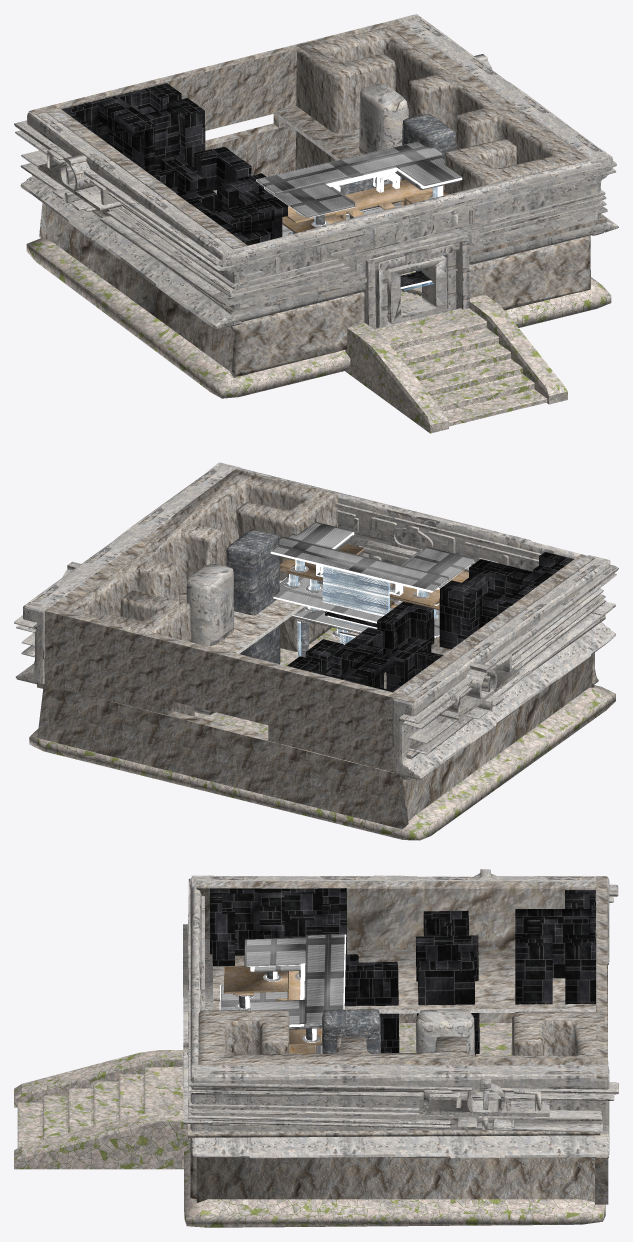
Rendered from templedm.glb.
3 views of the same model, one above another, from view 1: azimuth 30°, elevation 25°; view 2: azimuth 150°, elevation 25°; view 3: azimuth 270°, elevation 25° (orthographic). The views are drawn at different scales.
Visible parts, largest first — view 1: Selection.682, Selection.001, Cube.001, Selection #1.015, Selection.095, Selection #4.010, stairs.002, Selection.614, Selection #4.009, Selection #1.016, Selection.007, Selection.188 (+9 smaller); view 2: Selection #1.016, Selection.154, Selection.001, Selection.682, stairs.002, Selection #4.010, Selection.614, Selection #4.009, Selection.005, Selection #1.015, Selection.188, Selection.003 (+8 smaller); view 3: Selection.188, Selection #4.008, Cube.001, Selection.682, Selection #4.010, Selection #4.009, Selection.001, stairs.002, Selection.007, Selection.005, Selection.618, Selection.004 (+9 smaller).
Part boxes in pixels (box(x1,y1,x2,y2)): Selection.682: box(14, 54, 616, 329); Selection.001: box(295, 27, 588, 193); Cube.001: box(345, 294, 567, 433); Selection #1.015: box(226, 156, 618, 323); Selection.095: box(230, 236, 590, 376); Selection #4.010: box(26, 206, 611, 398); stairs.002: box(256, 141, 462, 290); Selection.614: box(20, 112, 244, 328); Selection #4.009: box(45, 107, 247, 377); Selection #1.016: box(29, 14, 421, 130); Selection.007: box(61, 83, 205, 173); Selection.188: box(396, 14, 618, 235); Selection #1.016: box(15, 602, 418, 772); Selection.154: box(37, 684, 411, 829); Selection.001: box(64, 469, 338, 716); Selection.682: box(14, 503, 618, 754); stairs.002: box(270, 522, 475, 657); Selection #4.010: box(29, 626, 615, 840); Selection.614: box(392, 555, 615, 779); Selection #4.009: box(392, 554, 594, 821); Selection.005: box(439, 552, 573, 649); Selection #1.015: box(220, 464, 603, 571); Selection.188: box(16, 462, 240, 685); Selection.003: box(226, 529, 280, 664); Selection.188: box(191, 1064, 609, 1158); Selection #4.008: box(196, 1058, 596, 1202); Cube.001: box(14, 1050, 190, 1169); Selection.682: box(183, 869, 618, 1132); Selection #4.010: box(184, 1023, 605, 1227); Selection #4.009: box(196, 881, 597, 1022); Selection.001: box(198, 1010, 604, 1065); stairs.002: box(219, 933, 346, 1053); Selection.007: box(515, 890, 596, 1004); Selection.005: box(210, 888, 346, 966); Selection.618: box(213, 949, 595, 1013); Selection.004: box(344, 954, 399, 1052).
Size of the model in its own units: 9.9 by 3.45 by 11.52.
Materials: 13 (12 with a texture image).
